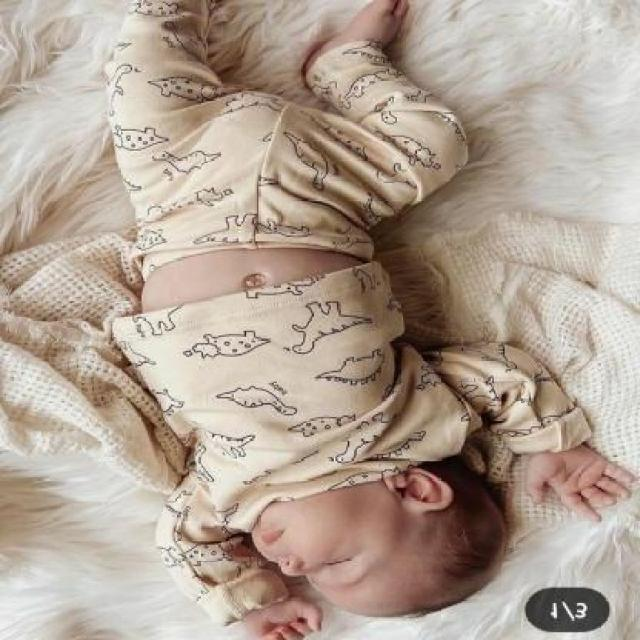baby: (101, 1, 630, 640)
